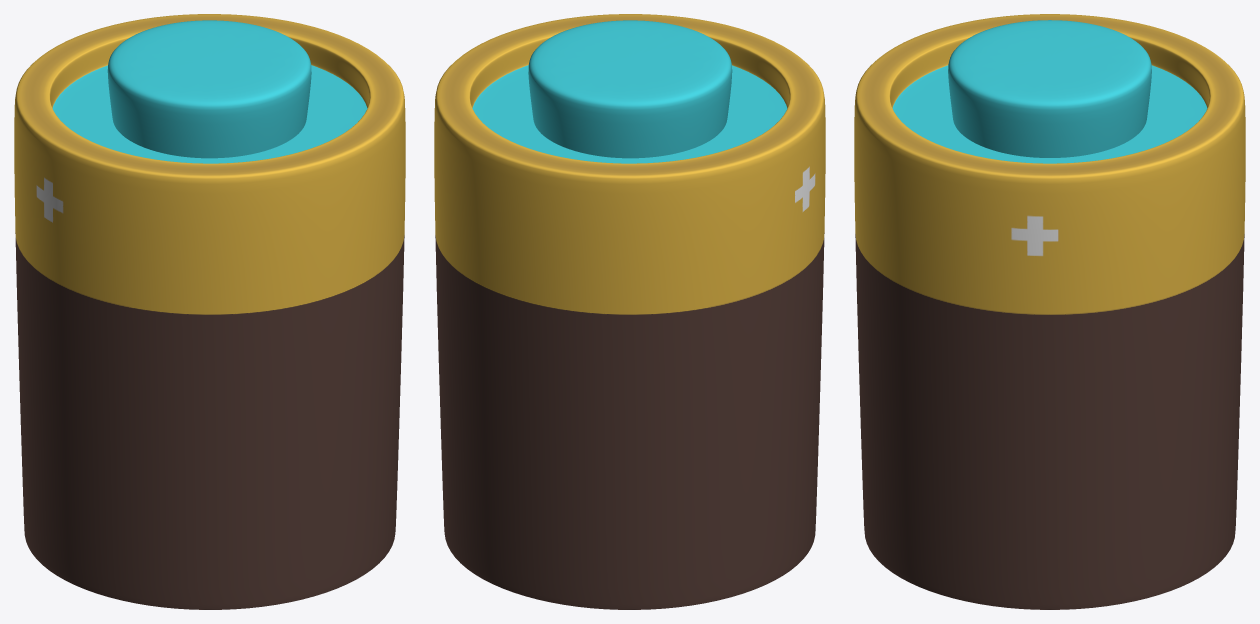
Rendered from dianchi.fbx.
3 renders of one model, left to right at view 1: azimuth 30°, elevation 25°; view 2: azimuth 150°, elevation 25°; view 3: azimuth 270°, elevation 25°, orthographic.
Parts seen in each view (by area): view 1: polySurface2, pCylinder9, polySurface1; view 2: polySurface2, pCylinder9, polySurface1; view 3: polySurface2, pCylinder9, polySurface1.
Part boxes in pixels (x1,y1,x2,y2): polySurface2: (14,14,405,609); pCylinder9: (107,20,311,158); polySurface1: (52,65,367,163); polySurface2: (434,14,825,609); pCylinder9: (528,20,732,158); polySurface1: (472,65,787,163); polySurface2: (854,14,1245,609); pCylinder9: (948,20,1151,157); polySurface1: (892,65,1207,163).
Bounding box in the file's own units: 1.5 × 2 × 1.5.
